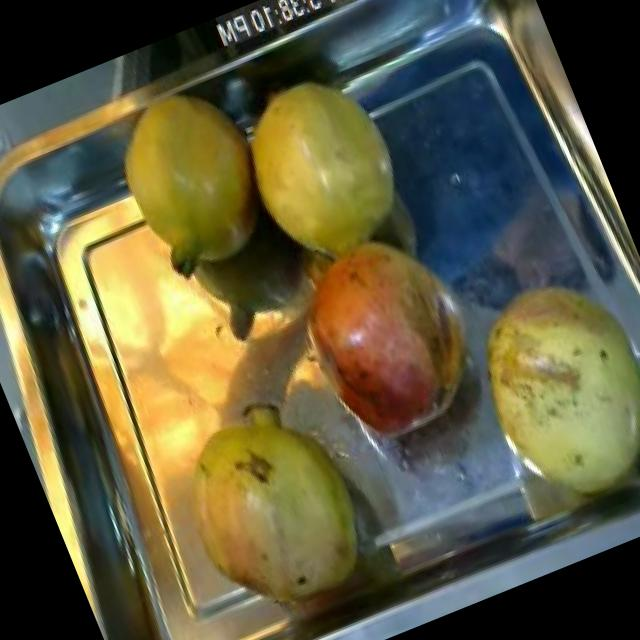fruit: (139, 364, 401, 640), (262, 202, 502, 471), (216, 48, 434, 292), (88, 64, 301, 304)
